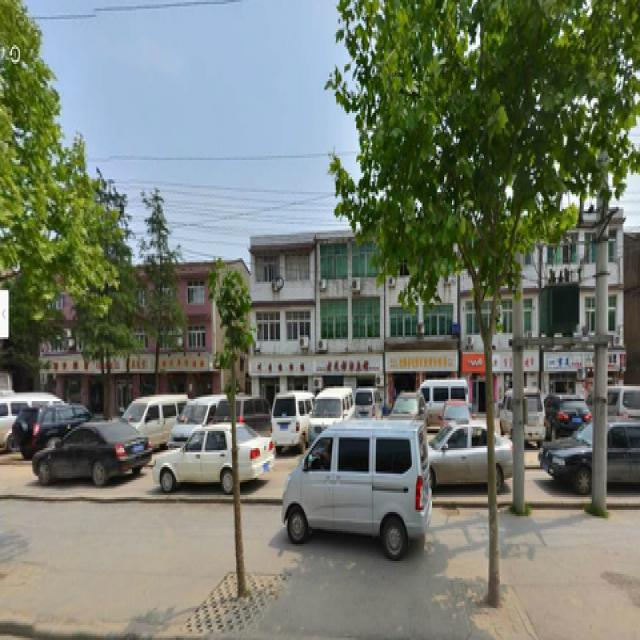meta: (376, 13, 563, 584)
